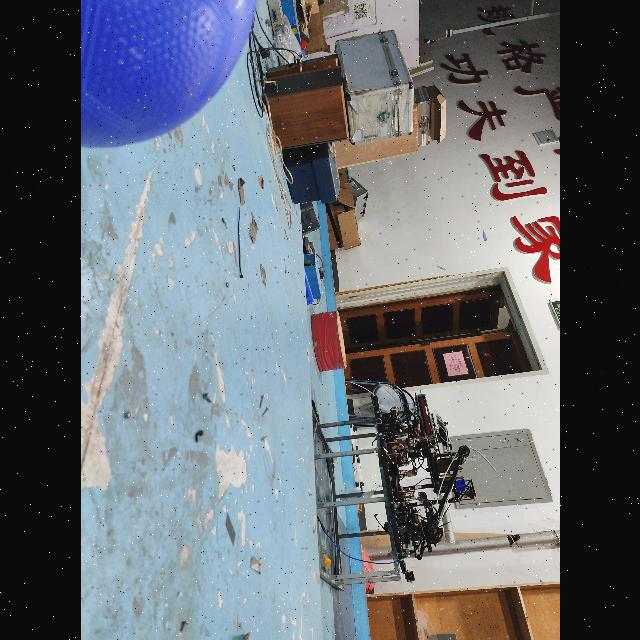B: (81, 0, 259, 146)
